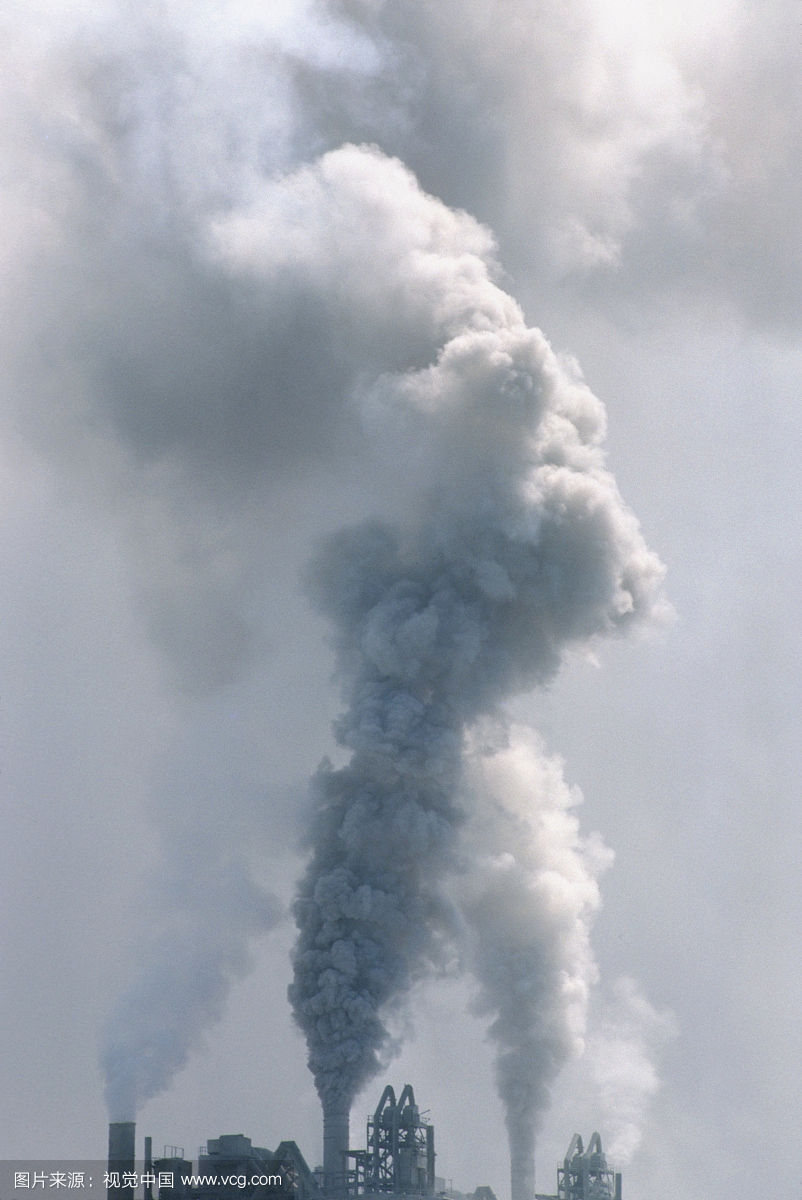dust: (284, 559, 473, 1113), (42, 754, 260, 1139), (459, 719, 638, 1133)
